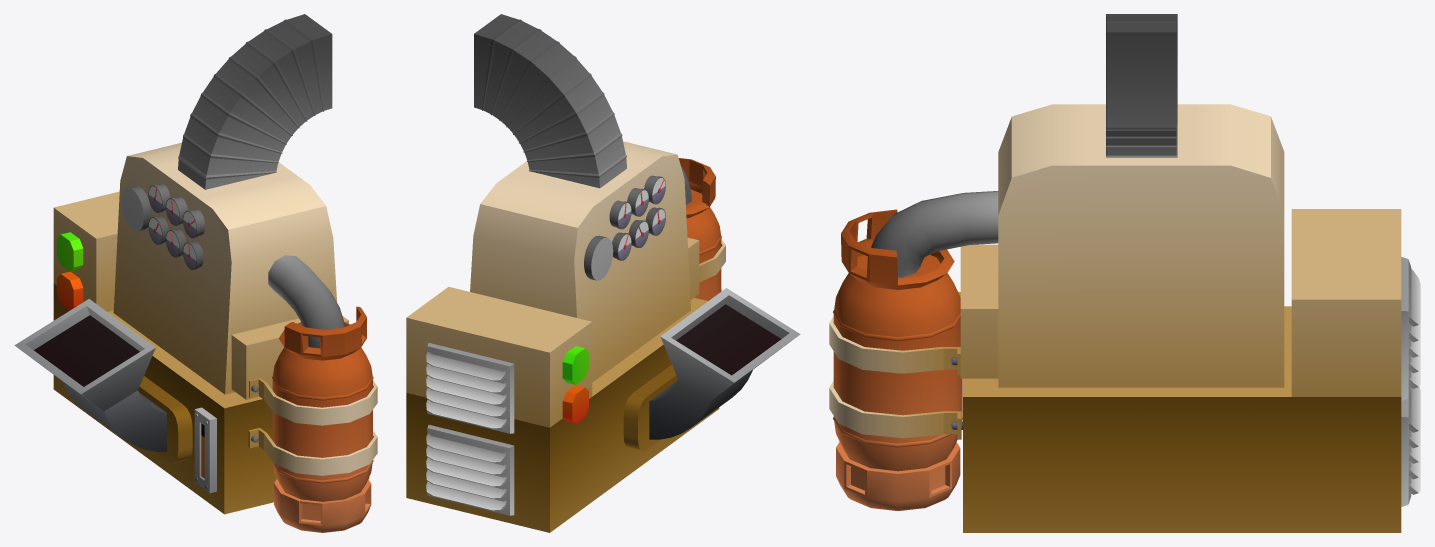
Rendered from grammar-machine-factory.glb.
3 renders of one model, left to right at view 1: azimuth 30°, elevation 25°; view 2: azimuth 150°, elevation 25°; view 3: azimuth 270°, elevation 25°, orthographic. The views are drawn at different scales.
Visible parts, largest first — view 1: Box001, Object002_Material #26_0, Box005, Box002, Box003, Box004, Cylinder005, Cylinder010, Cylinder006, Cylinder011, Cylinder008, Cylinder007 (+1 smaller); view 2: Box001, Box005, Box002, Object001_Material #26_0, Object003_Material #26_0, Object002_Material #26_0, Box004, Cylinder005, Cylinder006, Cylinder008, Cylinder010, Cylinder007 (+1 smaller); view 3: Box001, Object002_Material #26_0, Box005, Object003_Material #26_0, Object001_Material #26_0.
Boxes of the visible parts, left/top/right/bottom form: Box001: left=53, top=142, right=369, bottom=514; Object002_Material #26_0: left=248, top=255, right=377, bottom=532; Box005: left=178, top=14, right=332, bottom=189; Box002: left=14, top=299, right=166, bottom=451; Box003: left=194, top=407, right=216, bottom=493; Box004: left=57, top=232, right=83, bottom=310; Cylinder005: left=121, top=186, right=151, bottom=231; Cylinder010: left=183, top=209, right=205, bottom=238; Cylinder006: left=148, top=184, right=170, bottom=212; Cylinder011: left=183, top=241, right=203, bottom=269; Cylinder008: left=166, top=197, right=187, bottom=225; Cylinder007: left=148, top=216, right=168, bottom=244; Box001: left=406, top=141, right=719, bottom=532; Box005: left=474, top=14, right=626, bottom=188; Box002: left=649, top=288, right=800, bottom=439; Object001_Material #26_0: left=426, top=425, right=514, bottom=515; Object003_Material #26_0: left=426, top=343, right=514, bottom=433; Object002_Material #26_0: left=678, top=158, right=725, bottom=300; Box004: left=562, top=346, right=588, bottom=423; Cylinder005: left=584, top=235, right=613, bottom=280; Cylinder006: left=609, top=200, right=631, bottom=229; Cylinder008: left=627, top=188, right=648, bottom=216; Cylinder010: left=644, top=175, right=665, bottom=204; Cylinder007: left=612, top=232, right=631, bottom=260; Box001: left=960, top=104, right=1401, bottom=532; Object002_Material #26_0: left=829, top=191, right=998, bottom=510; Box005: left=1106, top=14, right=1177, bottom=157; Object003_Material #26_0: left=1401, top=257, right=1420, bottom=400; Object001_Material #26_0: left=1401, top=386, right=1420, bottom=506.
Bounding box in the file's own units: 1.91 × 2.64 × 2.76.
2 materials, 2 textured.
